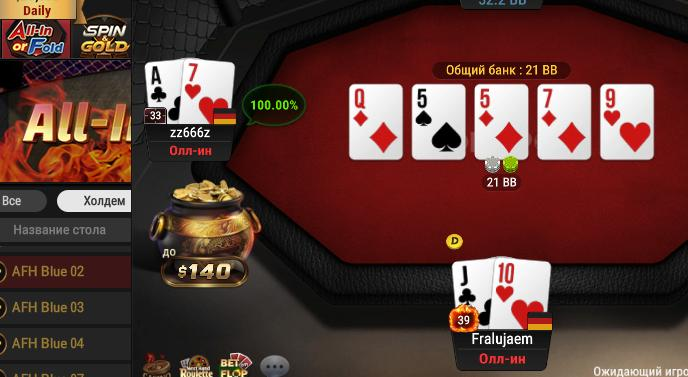10h: (492, 256, 549, 329)
5d: (476, 85, 526, 159)
5s: (413, 84, 465, 158)
7d: (538, 86, 589, 158)
7h: (183, 58, 233, 125)
9h: (601, 86, 653, 158)
Ac: (145, 60, 183, 124)
Jc: (448, 262, 493, 328)
Qd: (350, 85, 403, 159)
